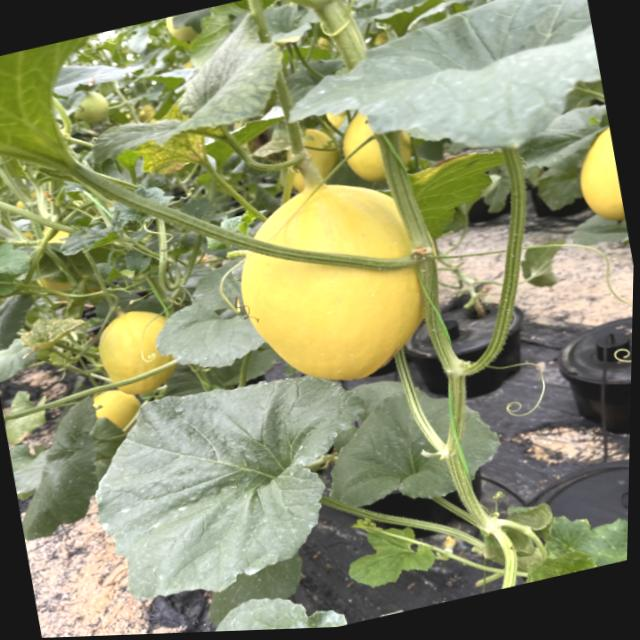SLCV: (516, 502, 607, 583)
downy mildew: (316, 0, 606, 155), (588, 496, 628, 567)
healthy: (75, 6, 300, 168), (139, 249, 280, 383)
powdery mildew: (73, 352, 393, 617), (139, 572, 359, 634)
